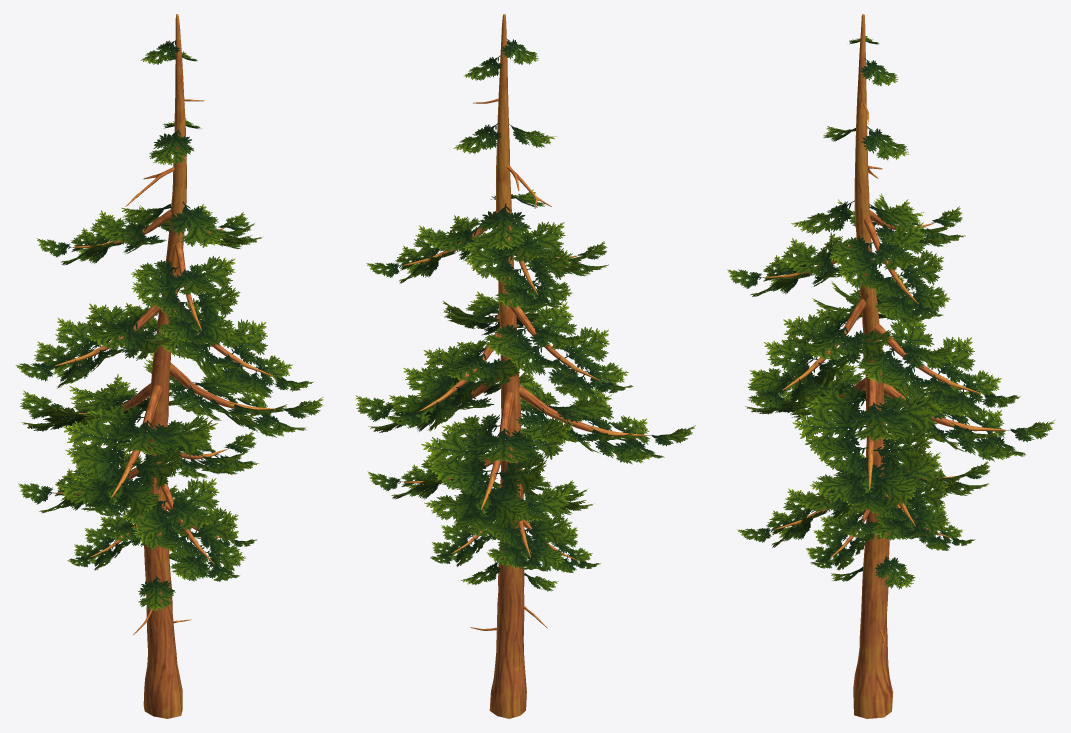
The model's file is pine_var2.glb.
3 renders of one model, left to right at view 1: azimuth 30°, elevation 25°; view 2: azimuth 150°, elevation 25°; view 3: azimuth 270°, elevation 25°, orthographic.
Visible parts, largest first — view 1: stylized_pine_var2_m_leaves_0, stylized_pine_var2_m_trunk_0; view 2: stylized_pine_var2_m_leaves_0, stylized_pine_var2_m_trunk_0; view 3: stylized_pine_var2_m_leaves_0, stylized_pine_var2_m_trunk_0.
Boxes of the visible parts, box(x1,y1,x2,y2) form: stylized_pine_var2_m_leaves_0: box(15, 40, 323, 610); stylized_pine_var2_m_trunk_0: box(54, 14, 274, 718); stylized_pine_var2_m_leaves_0: box(355, 38, 695, 591); stylized_pine_var2_m_trunk_0: box(403, 14, 647, 718); stylized_pine_var2_m_leaves_0: box(727, 36, 1054, 589); stylized_pine_var2_m_trunk_0: box(764, 14, 1006, 718).
Size of the model in its own units: 5.41 by 12.18 by 5.21.
2 materials, 2 textured.
